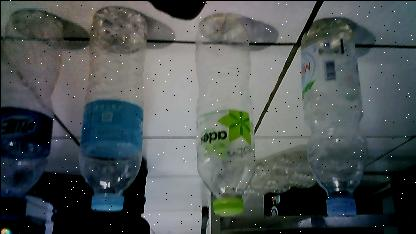Plastic Bottle: (286, 12, 386, 220), (66, 0, 160, 220), (175, 5, 269, 221), (0, 0, 62, 222)
